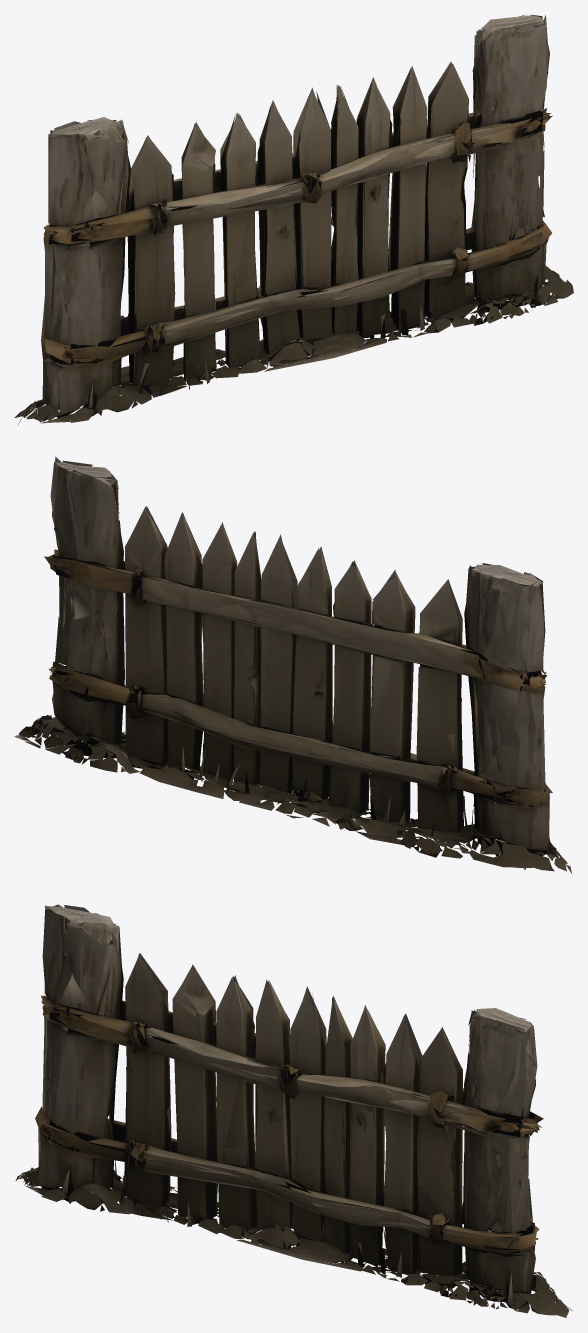
Rendered from goblin_palisade_c.glb.
3 views of the same model, one above another, from view 1: azimuth 30°, elevation 25°; view 2: azimuth 150°, elevation 25°; view 3: azimuth 330°, elevation 25° (orthographic).
Visible parts, largest first — view 1: goblin_palisade_c; view 2: goblin_palisade_c; view 3: goblin_palisade_c.
Boxes of the visible parts, box(x1,y1,x2,y2) form: goblin_palisade_c: box(14, 14, 573, 424); goblin_palisade_c: box(14, 456, 572, 874); goblin_palisade_c: box(15, 904, 573, 1317).
Bounding box in the file's own units: 5.2 × 2.57 × 0.6427.
1 material, 1 textured.
